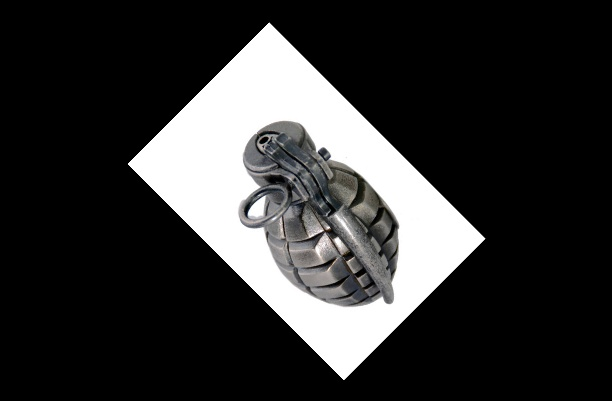e1: (239, 119, 402, 307)
